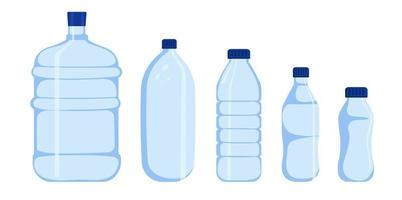plastic_bottle: (27, 3, 126, 183), (131, 36, 200, 183), (202, 43, 267, 187), (277, 63, 326, 184), (338, 82, 380, 186)
